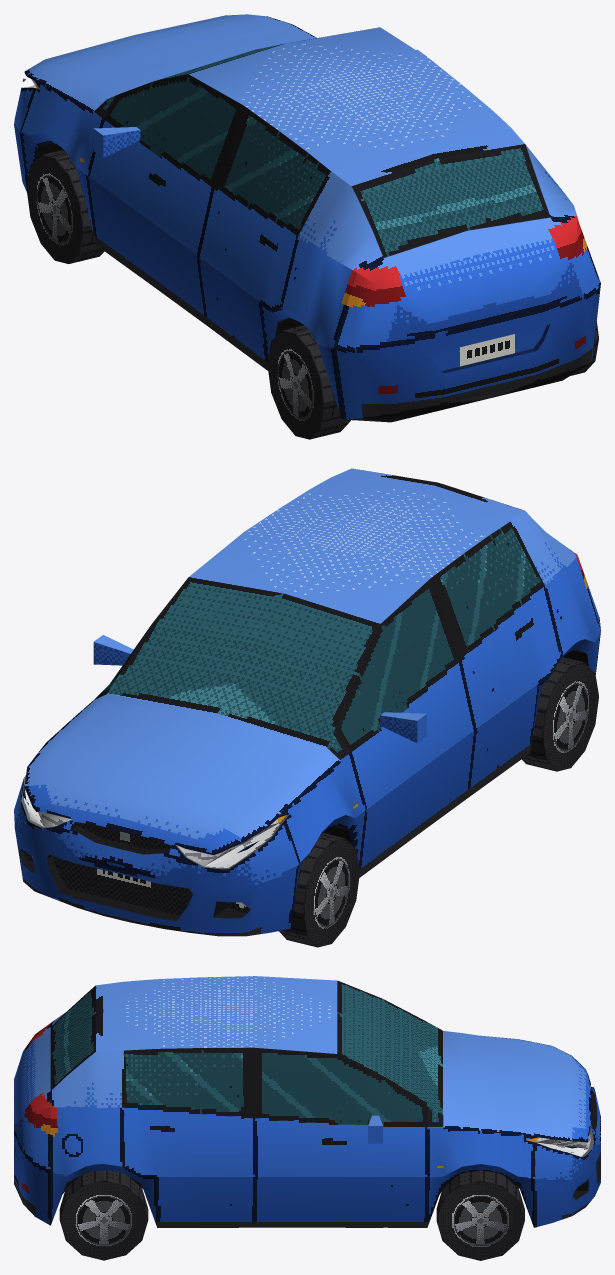
The model's file is mazda2_2013.glb.
3 views of the same model, one above another, from view 1: azimuth 30°, elevation 25°; view 2: azimuth 150°, elevation 25°; view 3: azimuth 270°, elevation 25° (orthographic). The views are drawn at different scales.
Visible parts, largest first — view 1: body, tailgate, door_FL, bumper_R, door_RL, hood, wheel_RL, wheel_FL, fender_FL, mirror_L, bumper_F; view 2: body, hood, door_FL, bumper_F, door_RL, wheel_FL, wheel_RL, fender_FL, headlight_L, mirror_L, mirror_R, headlight_R; view 3: body, door_FR, door_RR, hood, tailgate, wheel_RR, wheel_FR, fender_FR, bumper_F, bumper_R, headlight_R, mirror_R.
Boxes of the visible parts, left/top/right/bottom form: body: left=35, top=27, right=578, bottom=418; tailgate: left=333, top=144, right=600, bottom=349; door_FL: left=88, top=74, right=243, bottom=325; bumper_R: left=333, top=284, right=600, bottom=422; door_RL: left=198, top=106, right=331, bottom=370; hood: left=25, top=14, right=316, bottom=111; wheel_RL: left=267, top=325, right=350, bottom=439; wheel_FL: left=26, top=149, right=104, bottom=263; fender_FL: left=20, top=80, right=103, bottom=243; mirror_L: left=93, top=127, right=140, bottom=157; bumper_F: left=14, top=71, right=37, bottom=191; body: left=94, top=468, right=600, bottom=843; hood: left=25, top=694, right=340, bottom=877; door_FL: left=335, top=578, right=475, bottom=877; bumper_F: left=14, top=767, right=298, bottom=936; door_RL: left=431, top=521, right=561, bottom=797; wheel_FL: left=279, top=833, right=359, bottom=947; wheel_RL: left=521, top=657, right=598, bottom=771; fender_FL: left=281, top=753, right=366, bottom=923; headlight_L: left=175, top=814, right=289, bottom=869; mirror_L: left=380, top=712, right=426, bottom=743; mirror_R: left=93, top=635, right=133, bottom=665; headlight_R: left=21, top=774, right=71, bottom=827; body: left=50, top=976, right=519, bottom=1227; door_FR: left=254, top=1048, right=427, bottom=1227; door_RR: left=122, top=1047, right=254, bottom=1227; hood: left=443, top=1031, right=594, bottom=1143; tailgate: left=14, top=986, right=95, bottom=1171; wheel_RR: left=59, top=1170, right=148, bottom=1260; wheel_FR: left=436, top=1170, right=524, bottom=1260; fender_FR: left=427, top=1127, right=533, bottom=1227; bumper_F: left=534, top=1089, right=600, bottom=1227; bumper_R: left=14, top=1133, right=50, bottom=1225; headlight_R: left=525, top=1126, right=593, bottom=1157; mirror_R: left=368, top=1115, right=382, bottom=1143.
Bounding box in the file's own units: 1.94 × 1.47 × 3.88.
2 materials, 2 textured.
